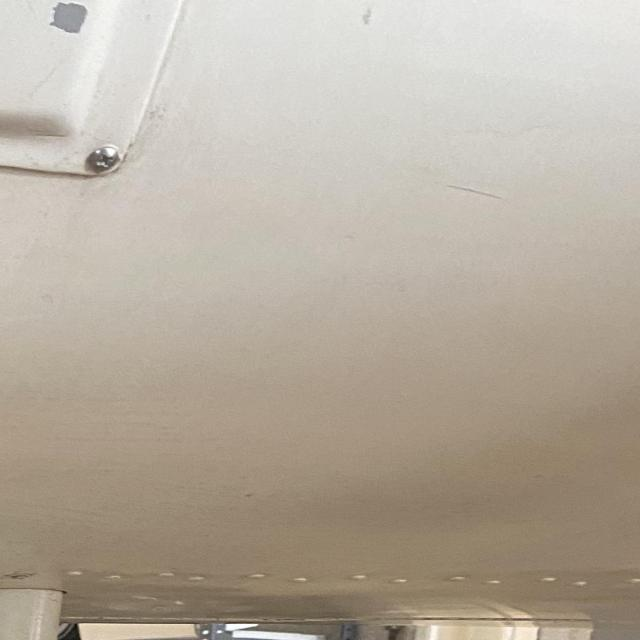Paint-off: (345, 5, 394, 31), (51, 2, 90, 33)
Scratch: (444, 171, 522, 207)
